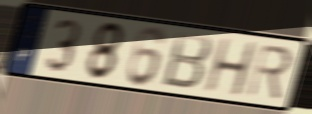3: (43, 17, 82, 74)
6: (125, 24, 168, 90)
8: (83, 20, 126, 83)
B: (159, 30, 215, 93)
H: (201, 37, 259, 99)
R: (244, 42, 294, 102)
